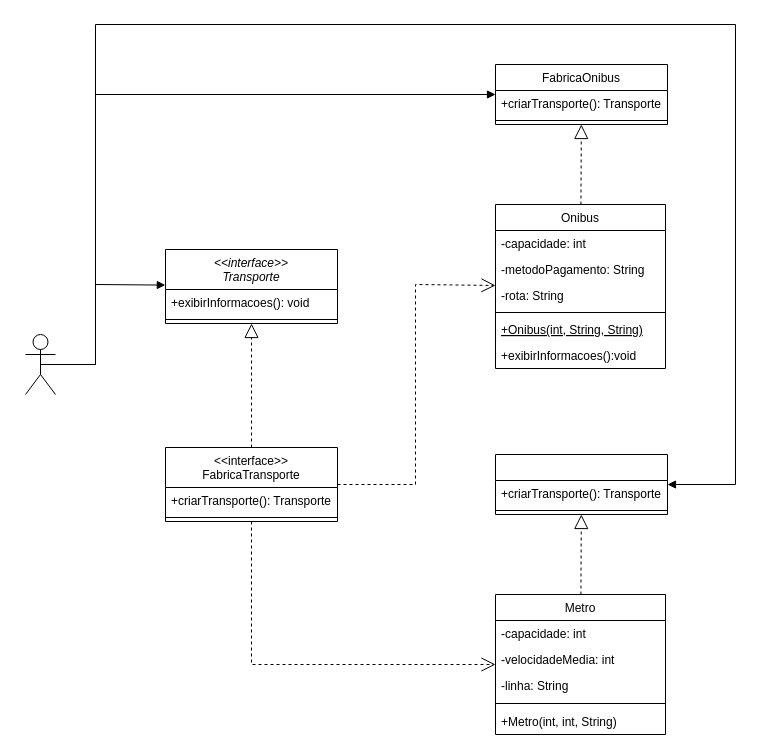
This 761x755 diagram has some shape labels left out. Each missing label, with the box of its shape:
FabricaMetro: (494, 454, 668, 514)
Principal: (24, 334, 56, 394)
